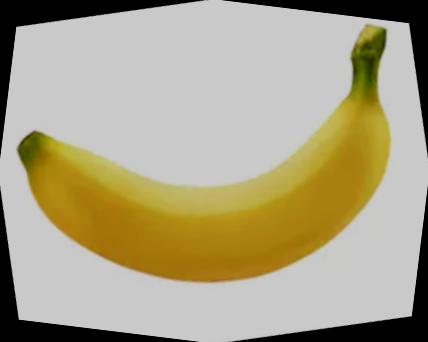Banana Ripe: (0, 0, 428, 327)
